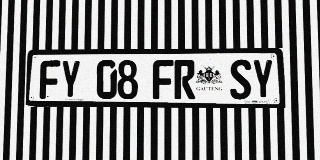0: (96, 60, 117, 99)
8: (117, 60, 138, 99)
F: (39, 60, 60, 99), (153, 60, 173, 99)
R: (174, 60, 195, 99)
S: (230, 59, 251, 99)
Y: (252, 59, 274, 99), (60, 60, 81, 99)
